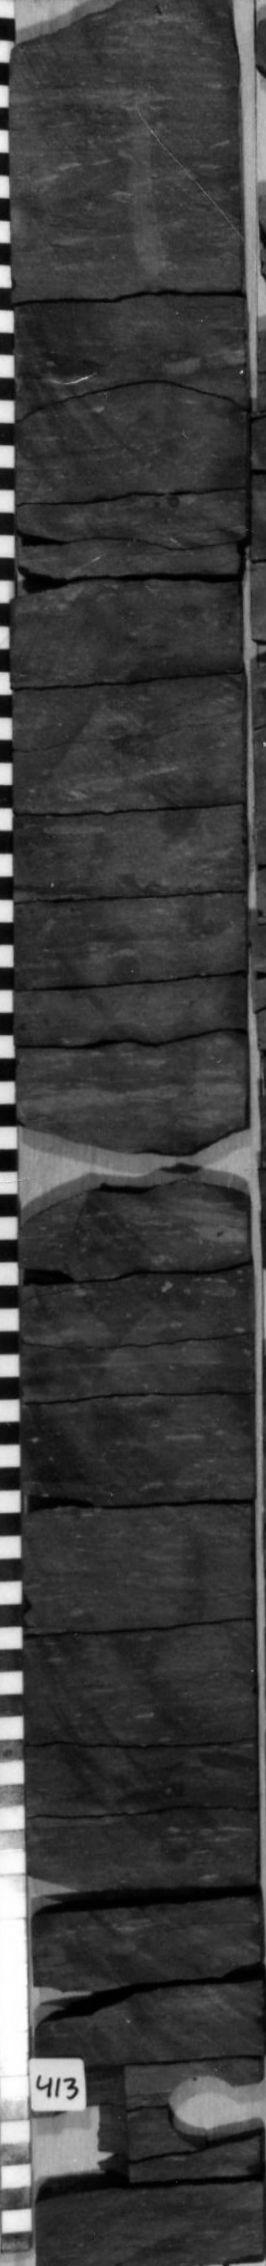hplug: (162, 2071, 236, 2150)
vplug: (45, 2062, 134, 2197)
